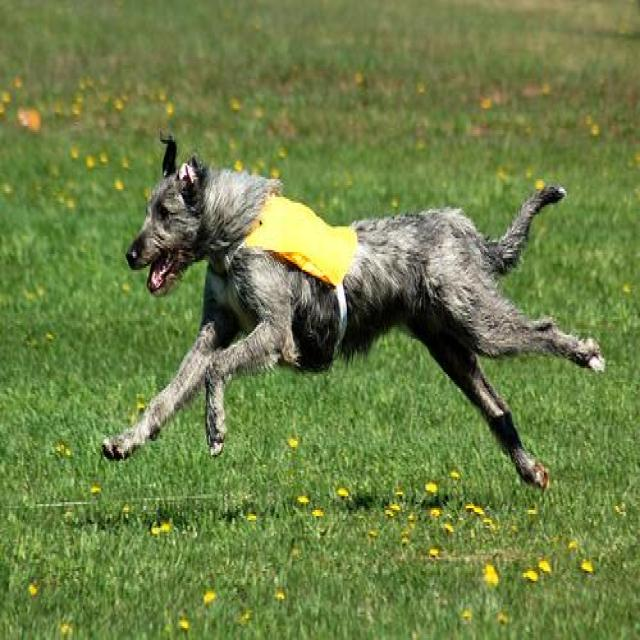irish_wolfhound: (104, 128, 606, 492)
